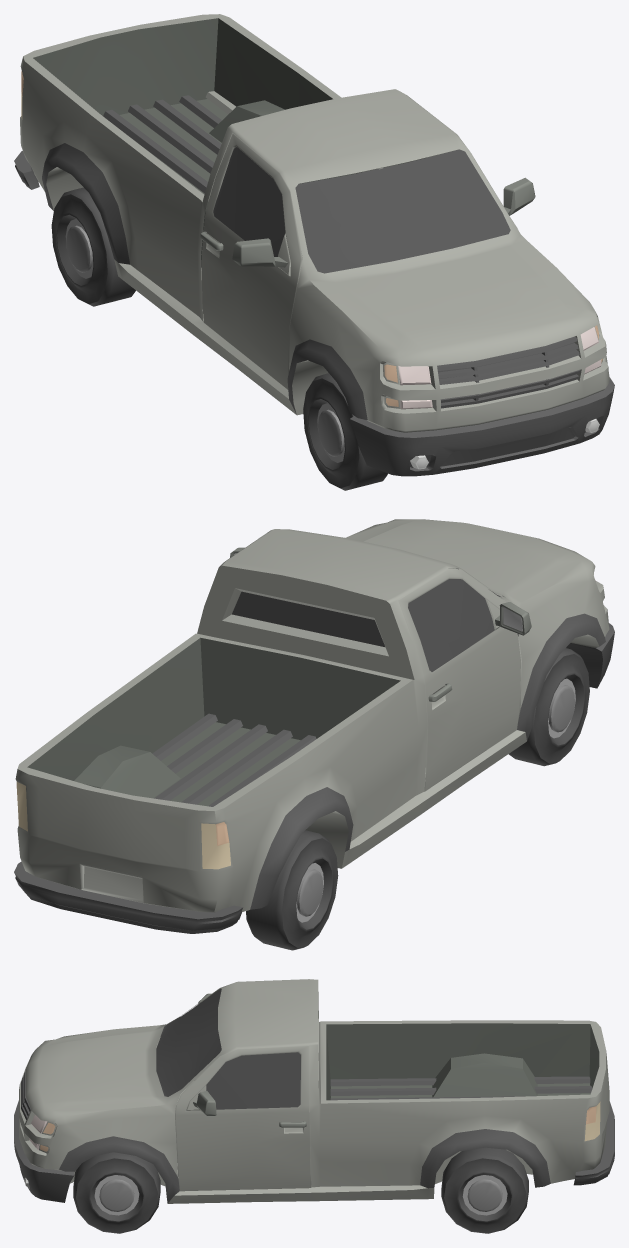
Rendered from Pickup.gltf.
3 views of the same model, one above another, from view 1: azimuth 30°, elevation 25°; view 2: azimuth 150°, elevation 25°; view 3: azimuth 270°, elevation 25° (orthographic). The views are drawn at different scales.
Visible parts, largest first — view 1: body, wheel_4, wheel_12, wheel_7, wheel_15, wheel_5, wheel_13; view 2: body, wheel_12, wheel_4, wheel_7, wheel_15, wheel_5, wheel_13; view 3: body, wheel_8, wheel_16, wheel_19, wheel_11, wheel_9, wheel_17, wheel_10, wheel_18.
Part boxes in pixels (<box>): body: <box>14,14,614,476</box>; wheel_4: <box>51,194,107,303</box>; wheel_12: <box>303,378,359,488</box>; wheel_7: <box>61,187,135,306</box>; wheel_15: <box>313,373,387,490</box>; wheel_5: <box>57,214,90,285</box>; wheel_13: <box>308,399,342,469</box>; body: <box>14,519,614,933</box>; wheel_12: <box>533,654,589,763</box>; wheel_4: <box>282,838,338,947</box>; wheel_7: <box>246,830,330,950</box>; wheel_15: <box>508,648,582,766</box>; wheel_5: <box>299,858,332,929</box>; wheel_13: <box>550,674,584,745</box>; body: <box>14,979,614,1211</box>; wheel_8: <box>76,1158,157,1232</box>; wheel_16: <box>444,1158,526,1232</box>; wheel_19: <box>441,1147,528,1233</box>; wheel_11: <box>73,1152,160,1233</box>; wheel_9: <box>90,1173,143,1221</box>; wheel_17: <box>458,1173,511,1221</box>; wheel_10: <box>94,1175,139,1215</box>; wheel_18: <box>462,1175,507,1215</box>.
Size of the model in its own units: 2.93 by 2.41 by 7.04.
1 material, 1 textured.
